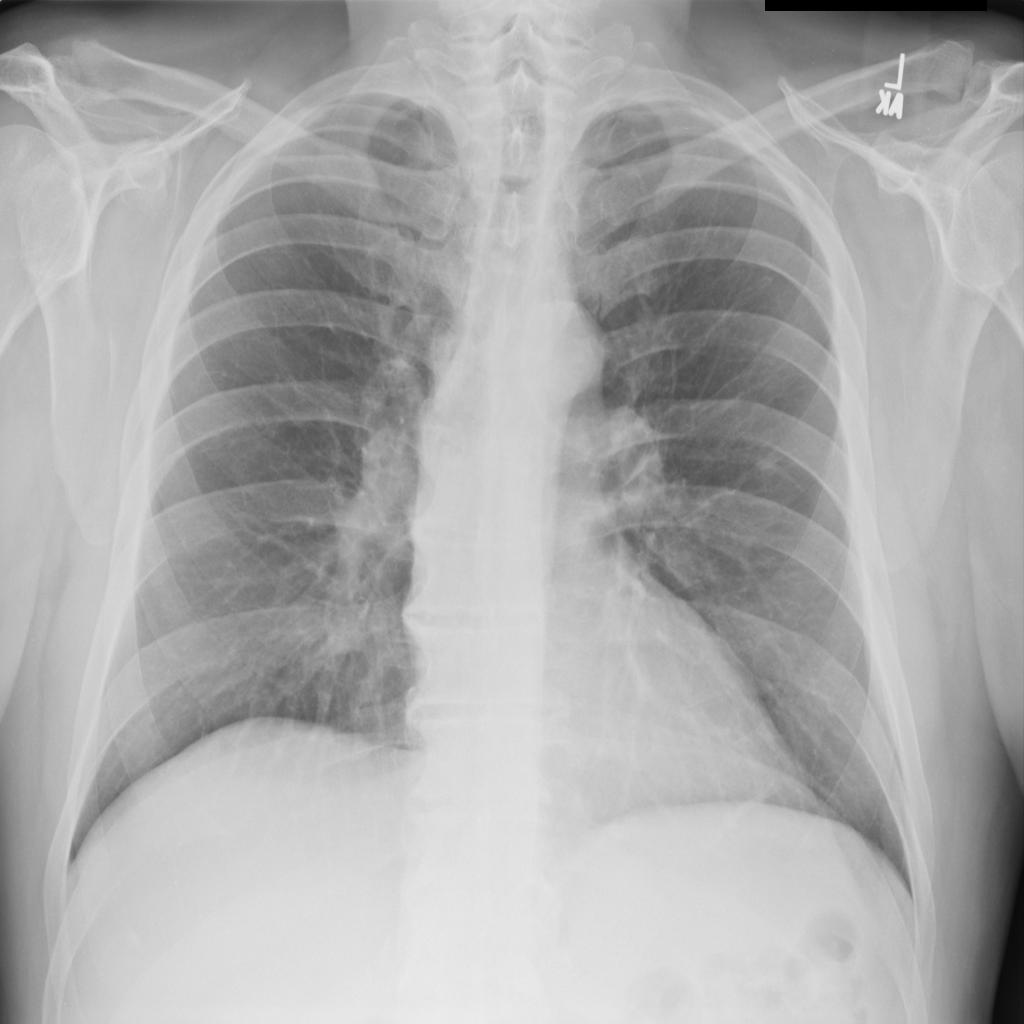nodule: (745, 431, 796, 483)
